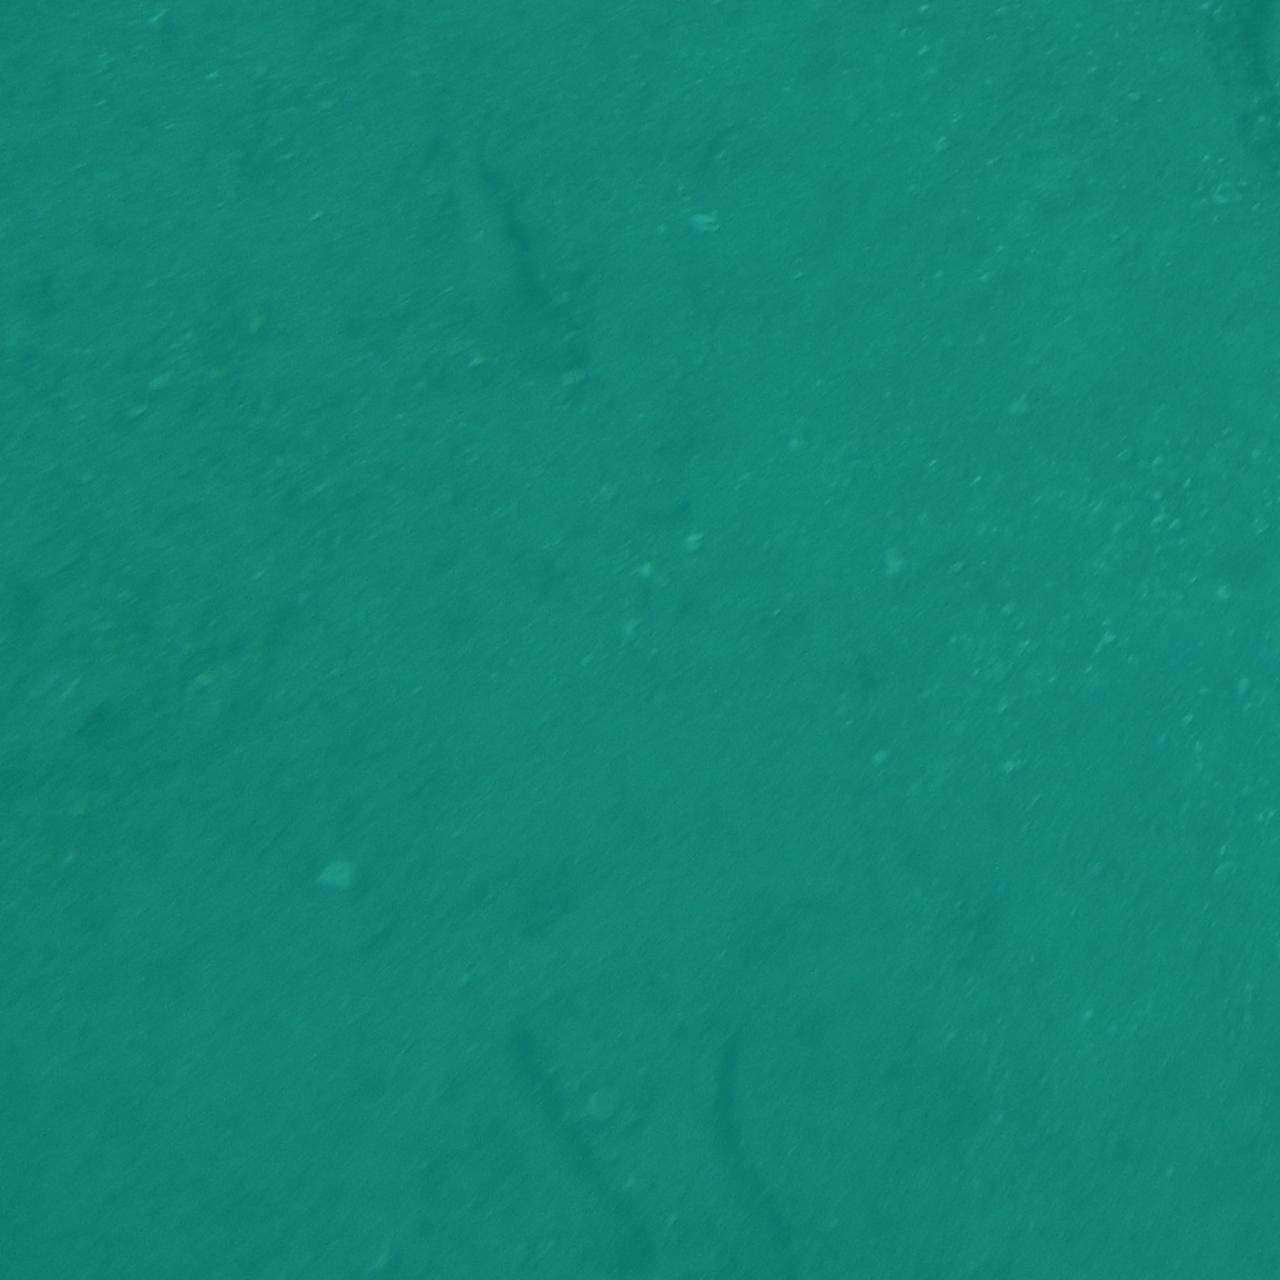Holothuria tubulosa: (449, 1005, 647, 1278), (688, 1009, 777, 1279)
